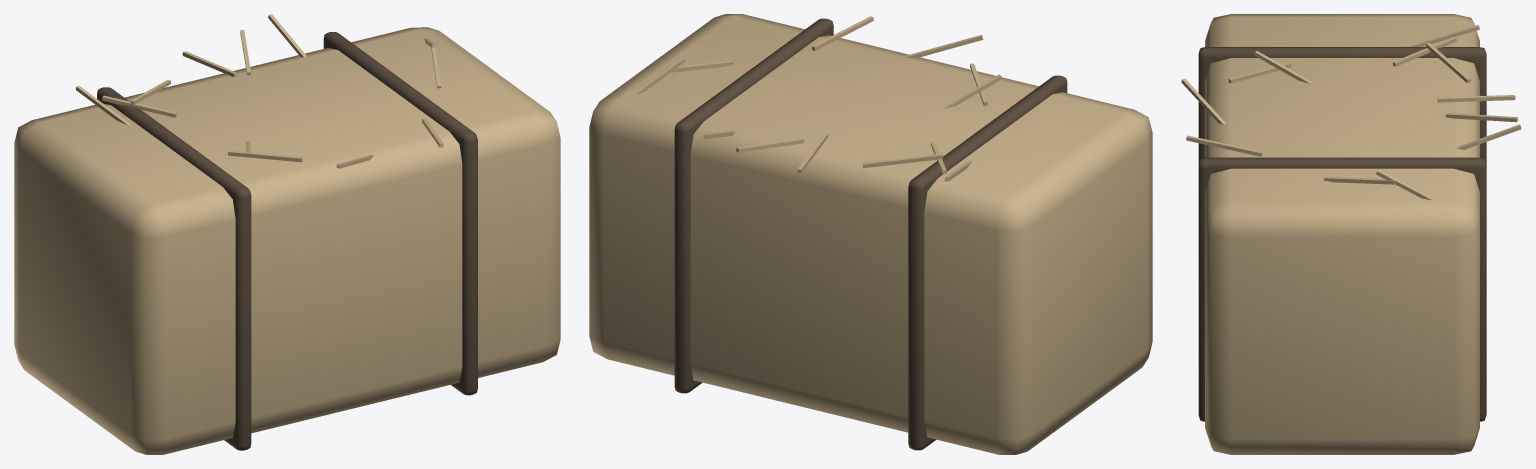
The model's file is hay_bale.glb.
3 views of the same model, side by side, from view 1: azimuth 30°, elevation 25°; view 2: azimuth 150°, elevation 25°; view 3: azimuth 270°, elevation 25° (orthographic). The views are drawn at different scales.
Parts seen in each view (by area): view 1: hay_bale; view 2: hay_bale; view 3: hay_bale.
Boxes of the visible parts, box(x1,y1,x2,y2) form: hay_bale: box(14, 14, 560, 454); hay_bale: box(589, 14, 1152, 454); hay_bale: box(1181, 14, 1521, 454).
Bounding box in the file's own units: 0.75 × 0.4633 × 0.5196.
